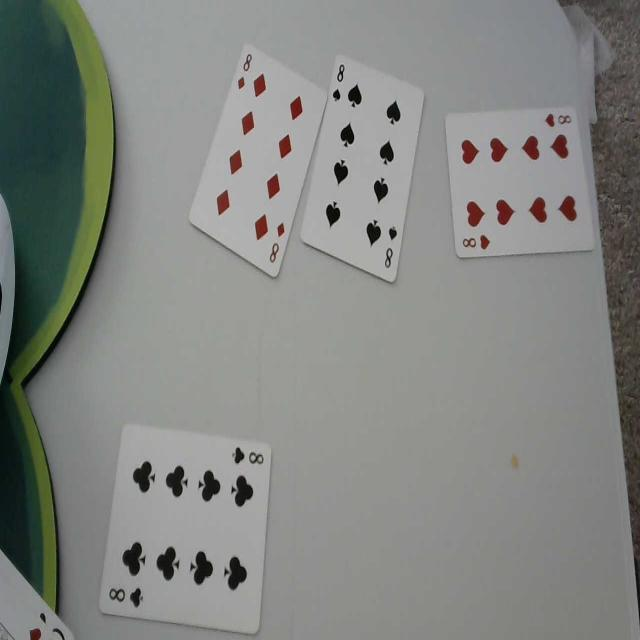8C: (108, 587, 146, 608)
8D: (268, 221, 286, 271), (236, 49, 252, 93)
8H: (541, 104, 573, 129), (460, 232, 493, 252)
8S: (383, 221, 399, 272), (332, 59, 347, 105)
